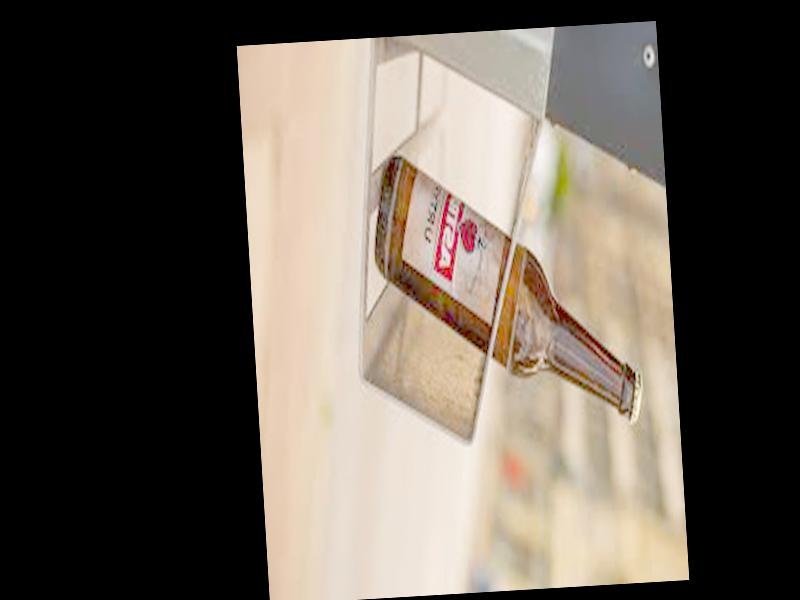Beer: (368, 138, 646, 441)
